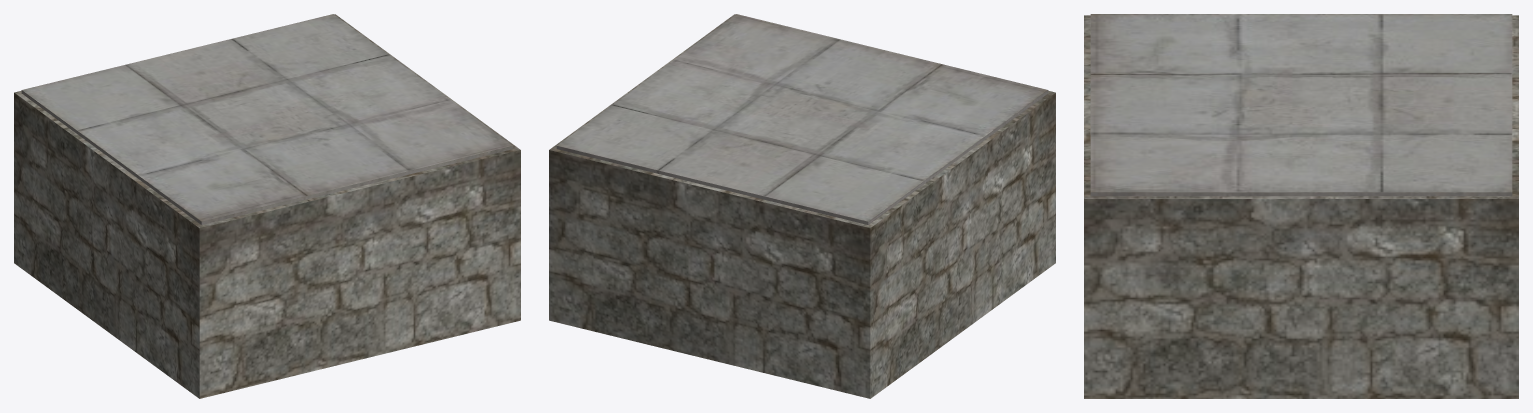
The model's file is stone_foundation_square_mid_textured.glb.
3 views of the same model, side by side, from view 1: azimuth 30°, elevation 25°; view 2: azimuth 150°, elevation 25°; view 3: azimuth 270°, elevation 25° (orthographic). The views are drawn at different scales.
Visible parts, largest first — view 1: Cube; view 2: Cube; view 3: Cube.
Part boxes in pixels (left/top/right/bottom): Cube: left=14, top=14, right=520, bottom=398; Cube: left=549, top=14, right=1055, bottom=398; Cube: left=1084, top=14, right=1518, bottom=398.
Size of the model in its own units: 2 by 1.03 by 2.
Materials: 1 (1 with a texture image).
